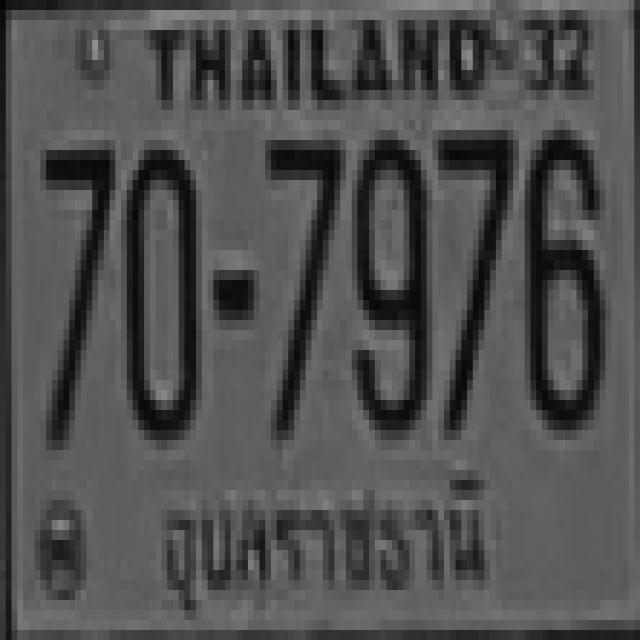0: (121, 140, 196, 430)
6: (522, 120, 602, 420)
7: (432, 120, 508, 430), (262, 130, 338, 430), (40, 140, 110, 440), (40, 145, 110, 385)
9: (352, 130, 426, 430)
UbonRatchathani: (155, 477, 494, 628)
